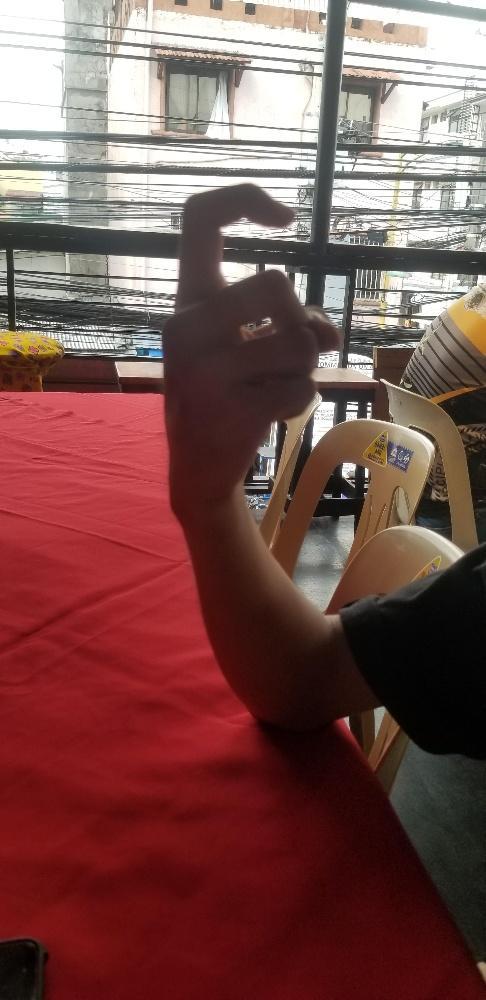x: (157, 183, 341, 503)
